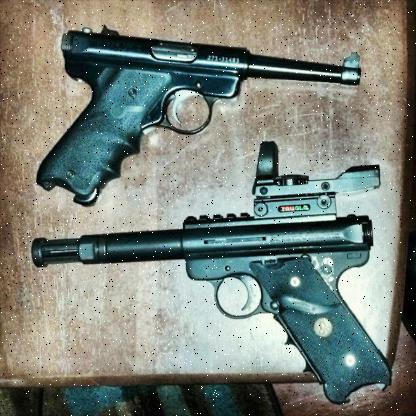gun: (29, 142, 392, 406), (34, 27, 362, 205)
